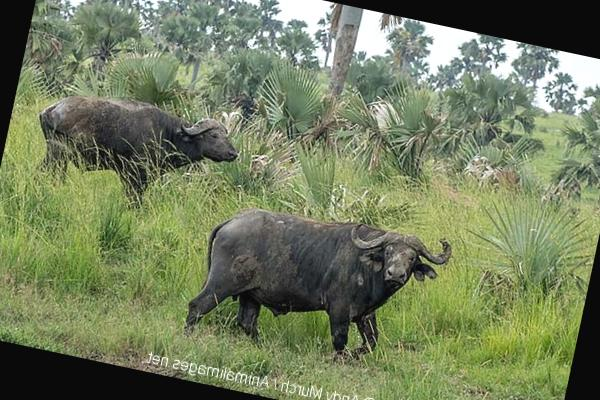Buffalo: (12, 62, 458, 372)
